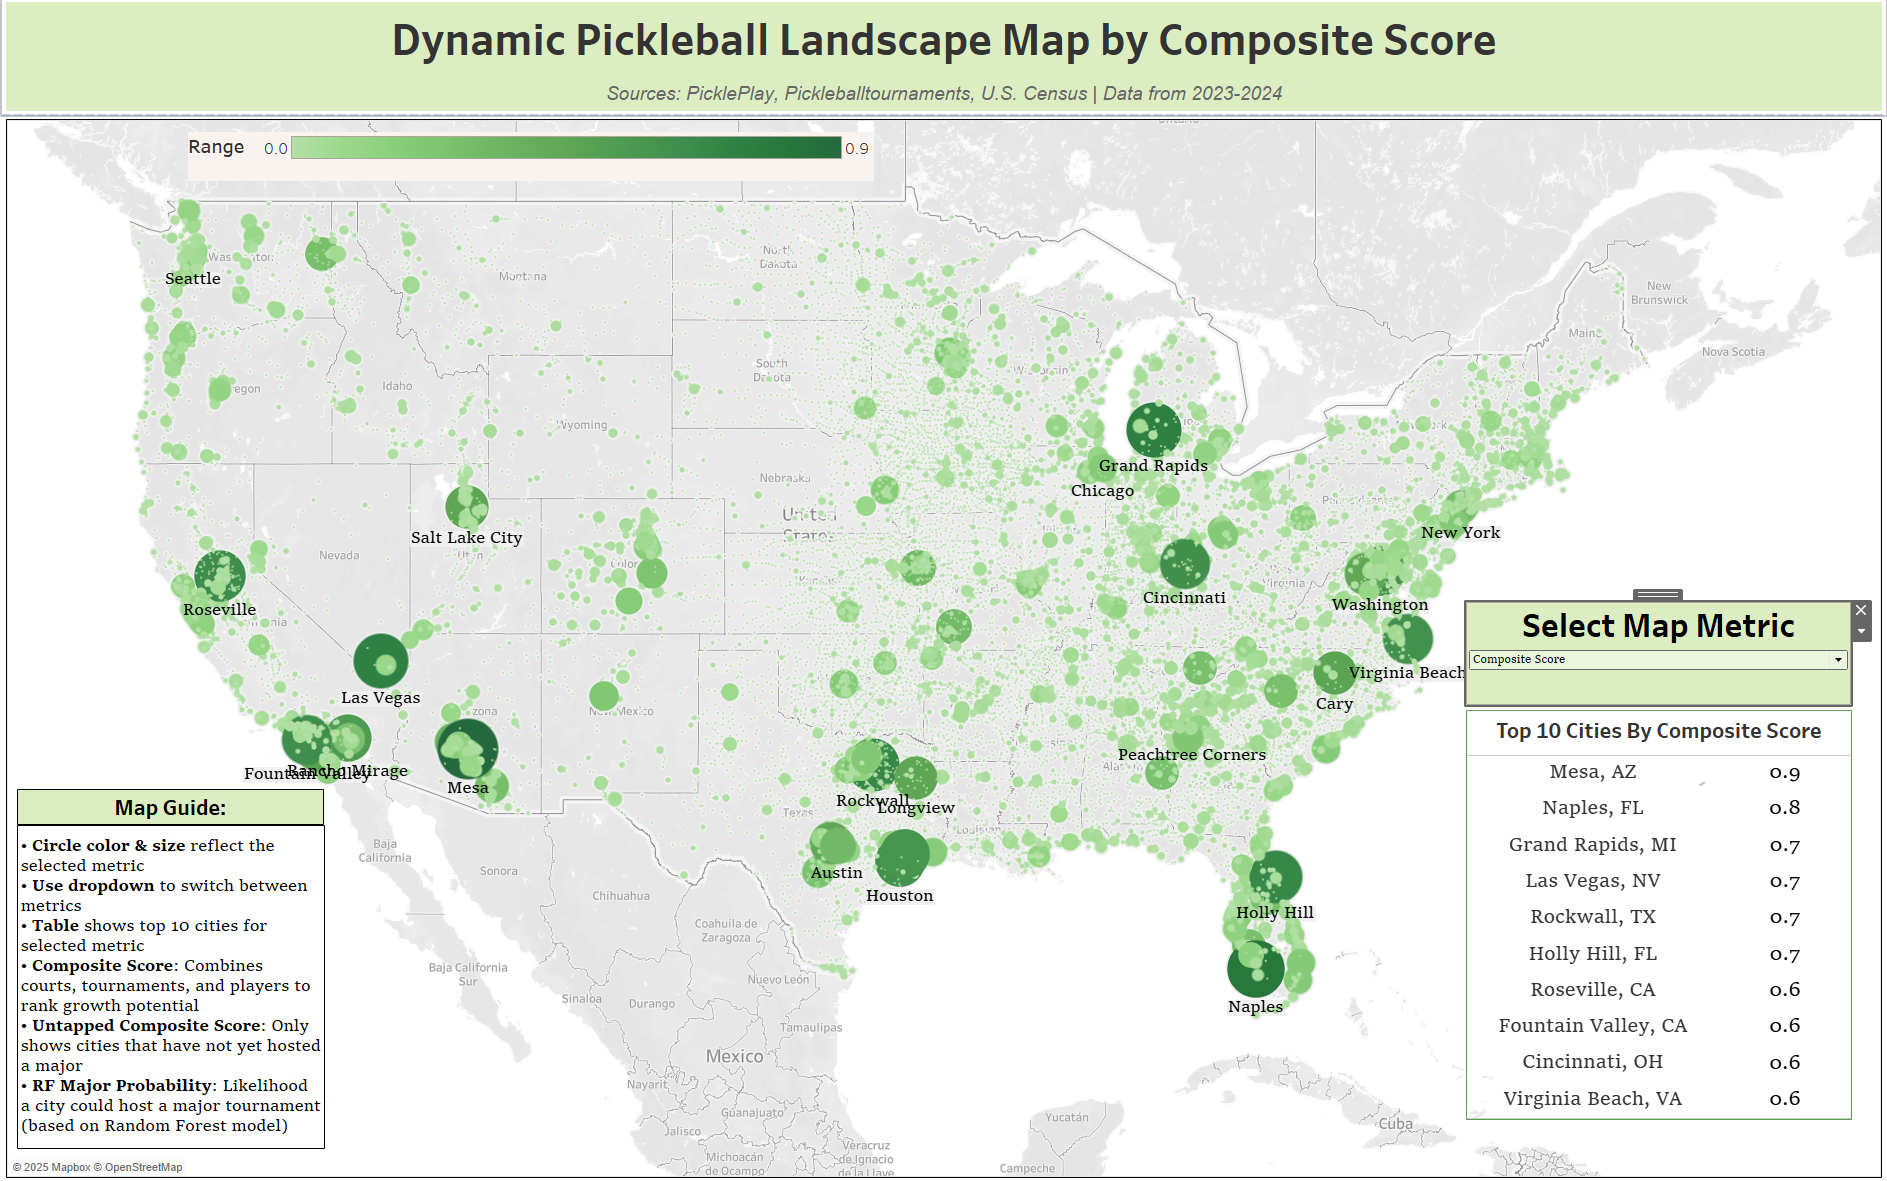

This screenshot's page, from the dashboard's own definition file:
{"tool":"tableau","page":{"name":"Pickleball Dynamic Overview Map","canvas":[1900,1200],"ordinal":0},"visuals":[{"type":"text","box":[8,8,1884,116.9]},{"type":"worksheet","title":"Dynamic Pickleball Landscape Map","mark":"Automatic","box":[8,124.9,1884,1067.1]},{"type":"legend","title":"Dynamic Pickleball Landscape Map","param":"[federated.1uroyys0okk61s14kenbh1t98qae].[avg:Calculation_2274880825338425361:qk","box":[194,141.8,686,49.1]},{"type":"parameter","param":"[Parameters].[Parameter 2]","box":[1472,612,385,103]},{"type":"worksheet","title":"Top 10","mark":"Automatic","rows":["city_state"],"box":[1472,720,386,410]},{"type":"text","box":[23,799,307,36]},{"type":"text","box":[23,835,308,324]}]}

Visuals, with their boxes in screenshot pixels (x1, y1, x2, y2), scaled from the page's 1900x1200 canvas onto the 1887x1181 screenshot:
text: <box>8,8,1879,123</box>
"Dynamic Pickleball Landscape Map" worksheet: <box>8,123,1879,1173</box>
"Dynamic Pickleball Landscape Map" legend: <box>193,140,874,188</box>
parameter: <box>1462,602,1844,704</box>
"Top 10" worksheet: <box>1462,709,1845,1112</box>
text: <box>23,786,328,822</box>
text: <box>23,822,329,1141</box>
